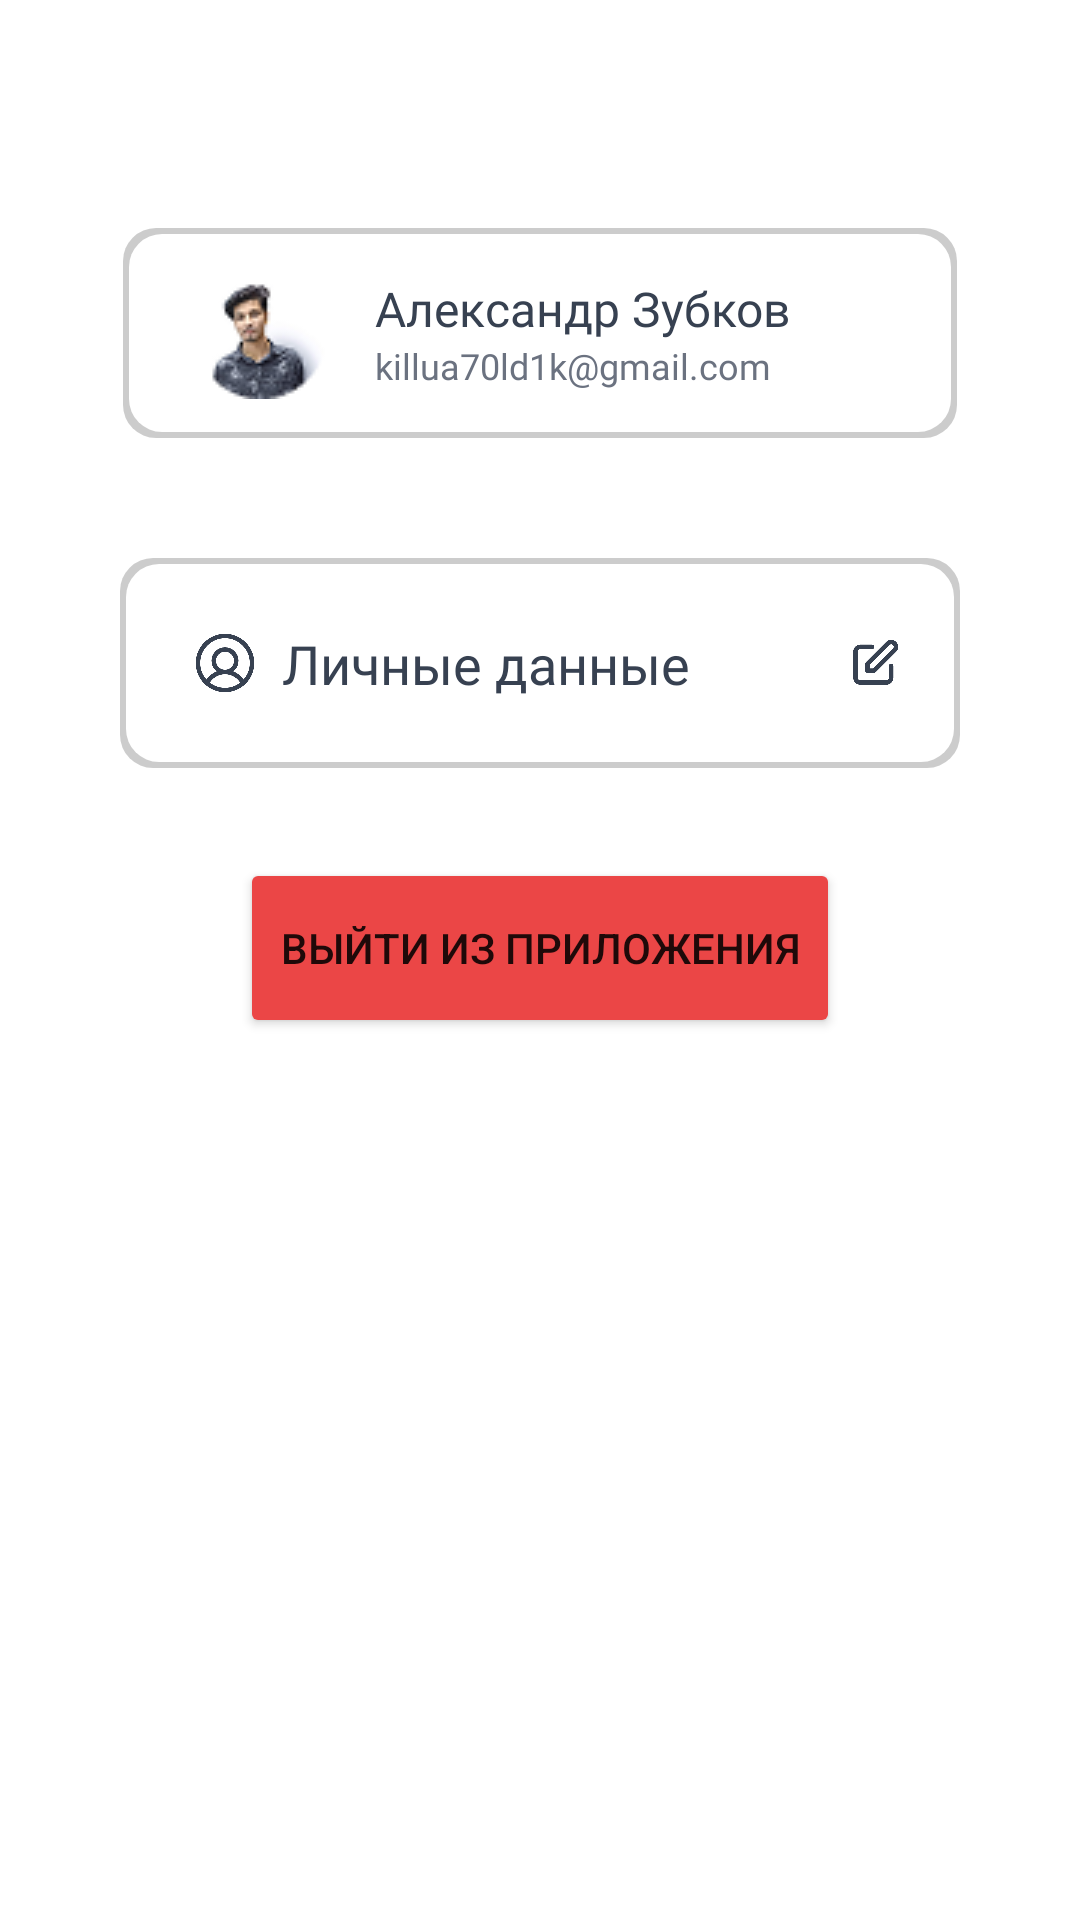

Screen size 1080px x 1920px. Icon name, then its center in pixels as [x,y]:
account change: [875,662]
account settings: [225,663]
